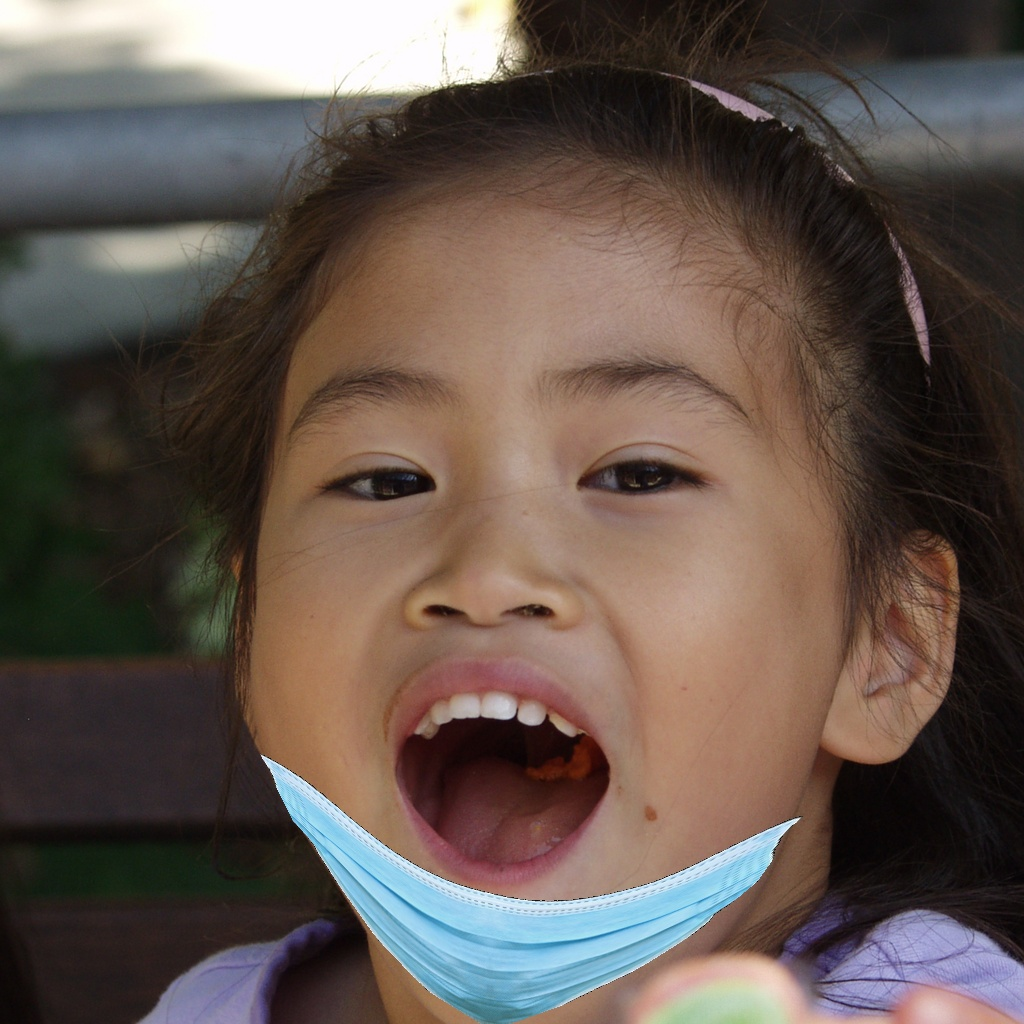mask_weared_incorrect: (222, 368, 847, 1022)
